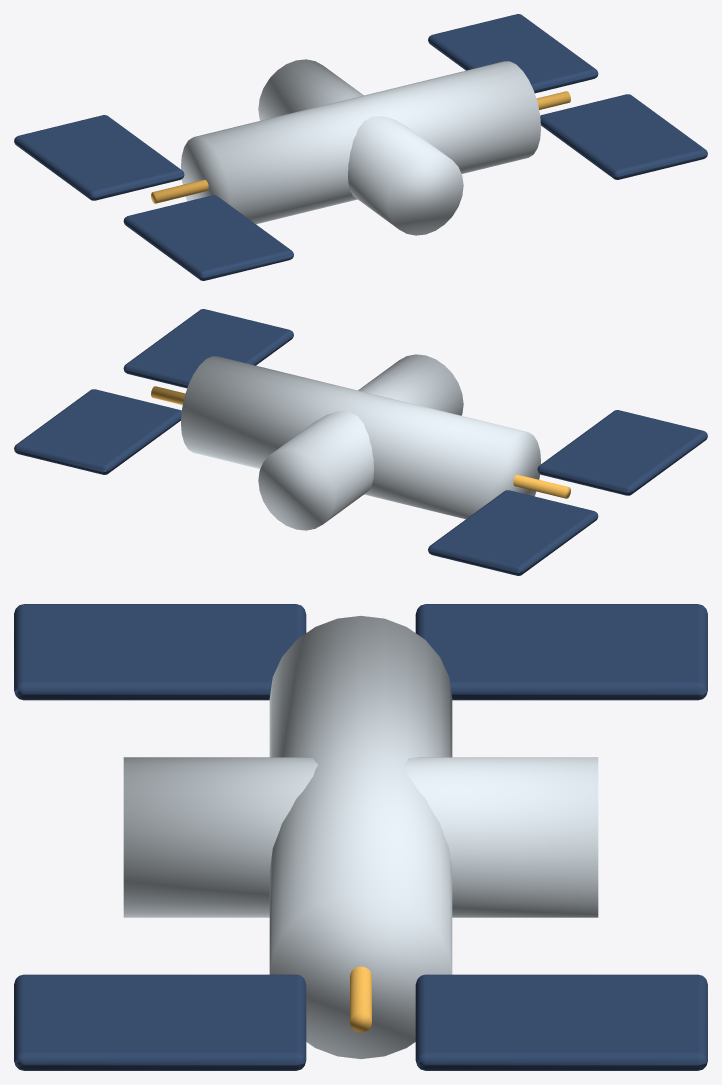
Rendered from space-station-quality.glb.
The picture shows the model from 3 angles, top to bottom: view 1: azimuth 30°, elevation 25°; view 2: azimuth 150°, elevation 25°; view 3: azimuth 270°, elevation 25°; orthographic projection. The views are drawn at different scales.
Parts seen in each view (by area): view 1: Main module; view 2: Main module; view 3: Main module.
Boxes of the visible parts, bbox=[...] form: Main module: bbox=[14, 14, 707, 280]; Main module: bbox=[14, 309, 707, 575]; Main module: bbox=[14, 604, 707, 1070].
Bounding box in the file's own units: 2.95 × 0.5 × 1.9.
